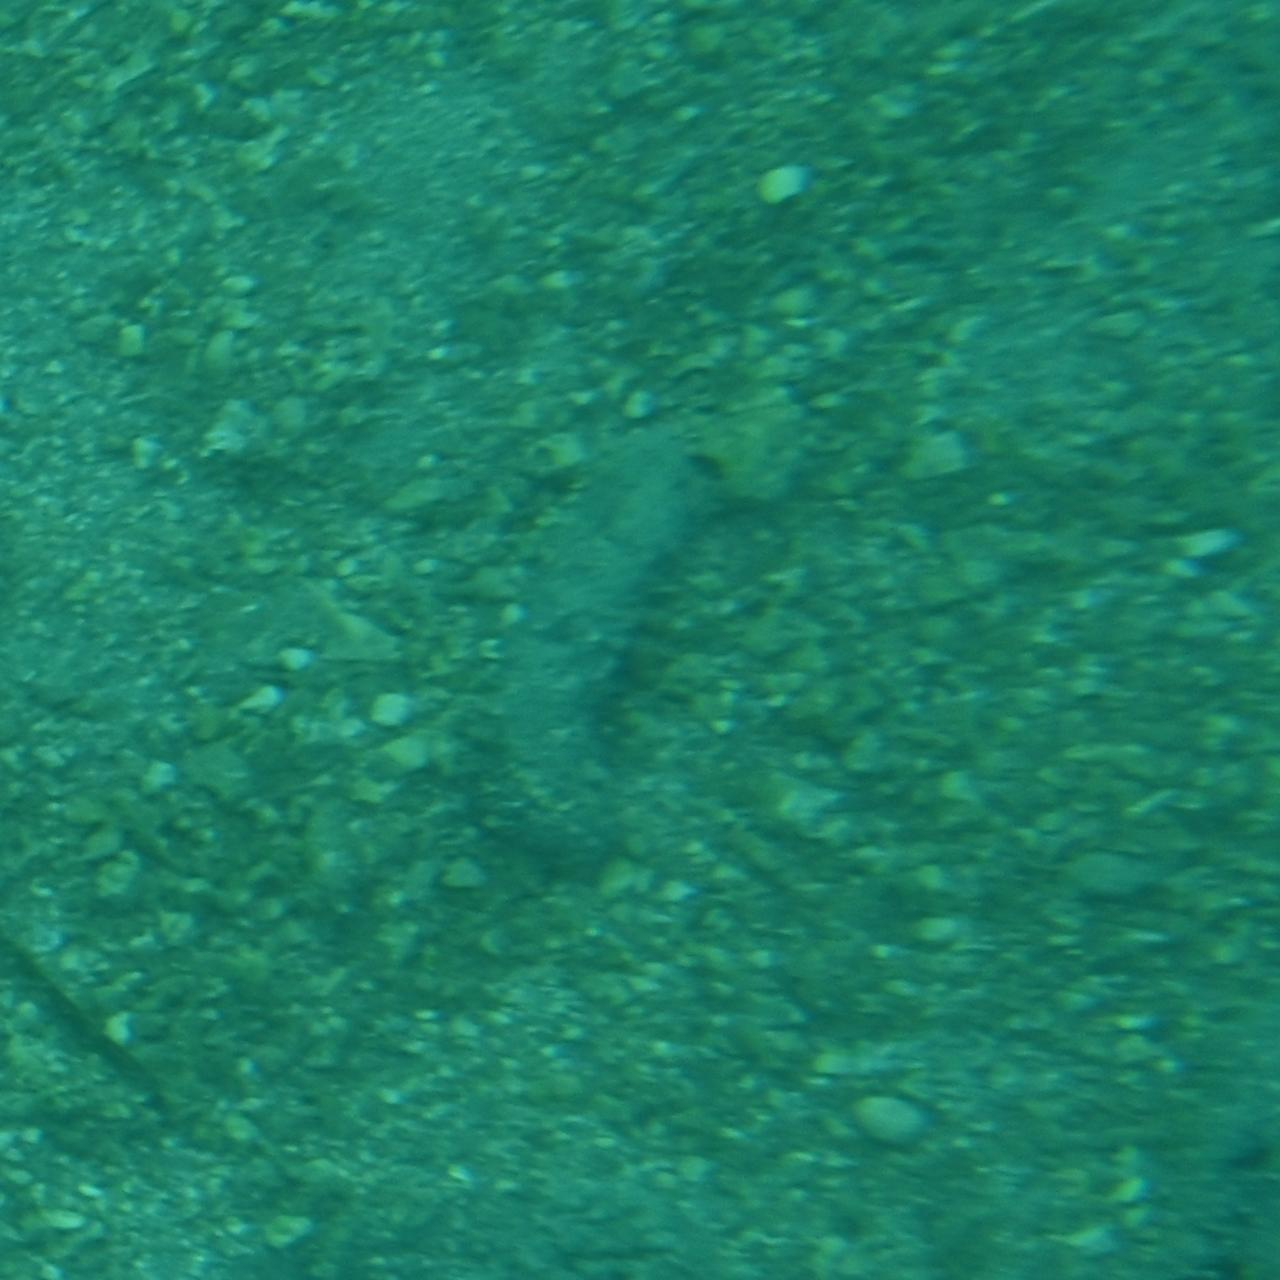Holothuria tubulosa: (475, 386, 805, 894)
